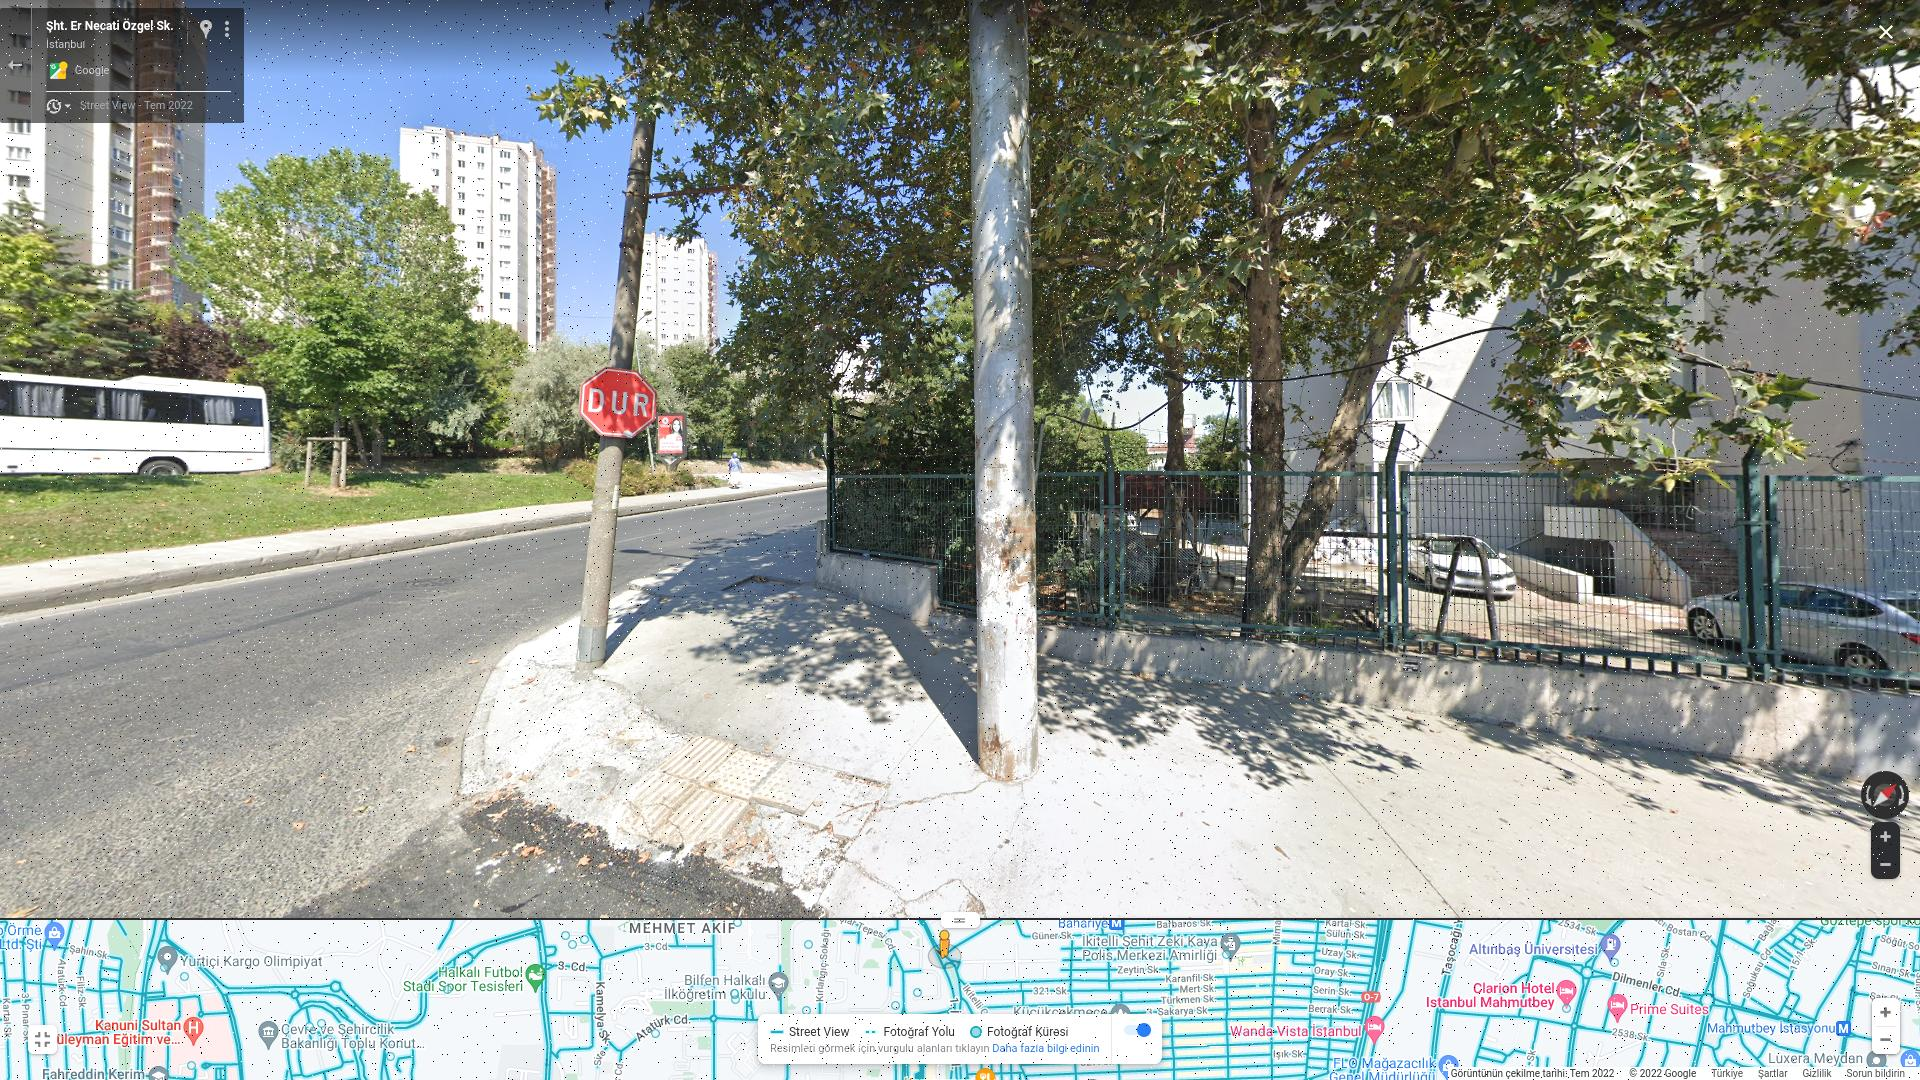stop: (575, 367, 671, 442)
